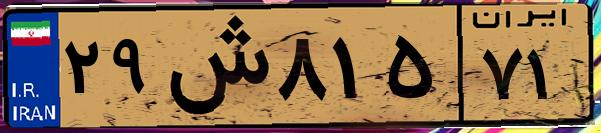1: (330, 28, 385, 110), (525, 38, 570, 115)
2: (57, 26, 110, 100)
5: (385, 28, 445, 110)
7: (475, 38, 525, 113)
8: (270, 28, 330, 110)
9: (110, 28, 158, 98)
ش: (158, 12, 270, 120)
